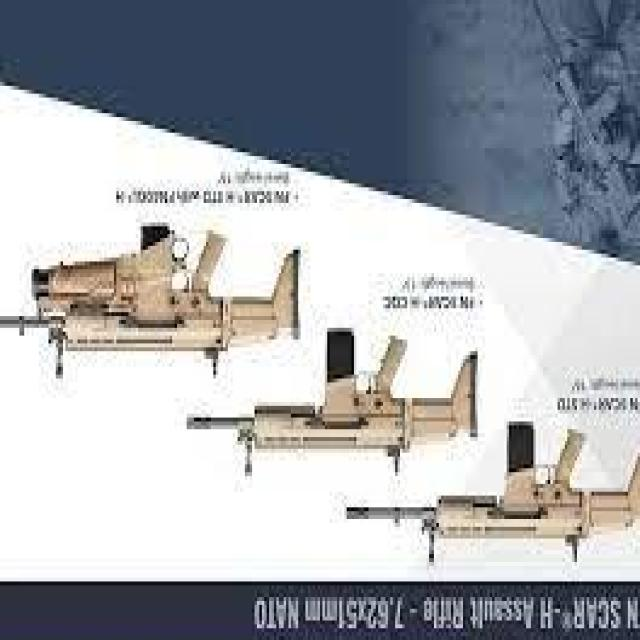Gun: (183, 303, 490, 479), (1, 226, 312, 366), (349, 426, 640, 566)
